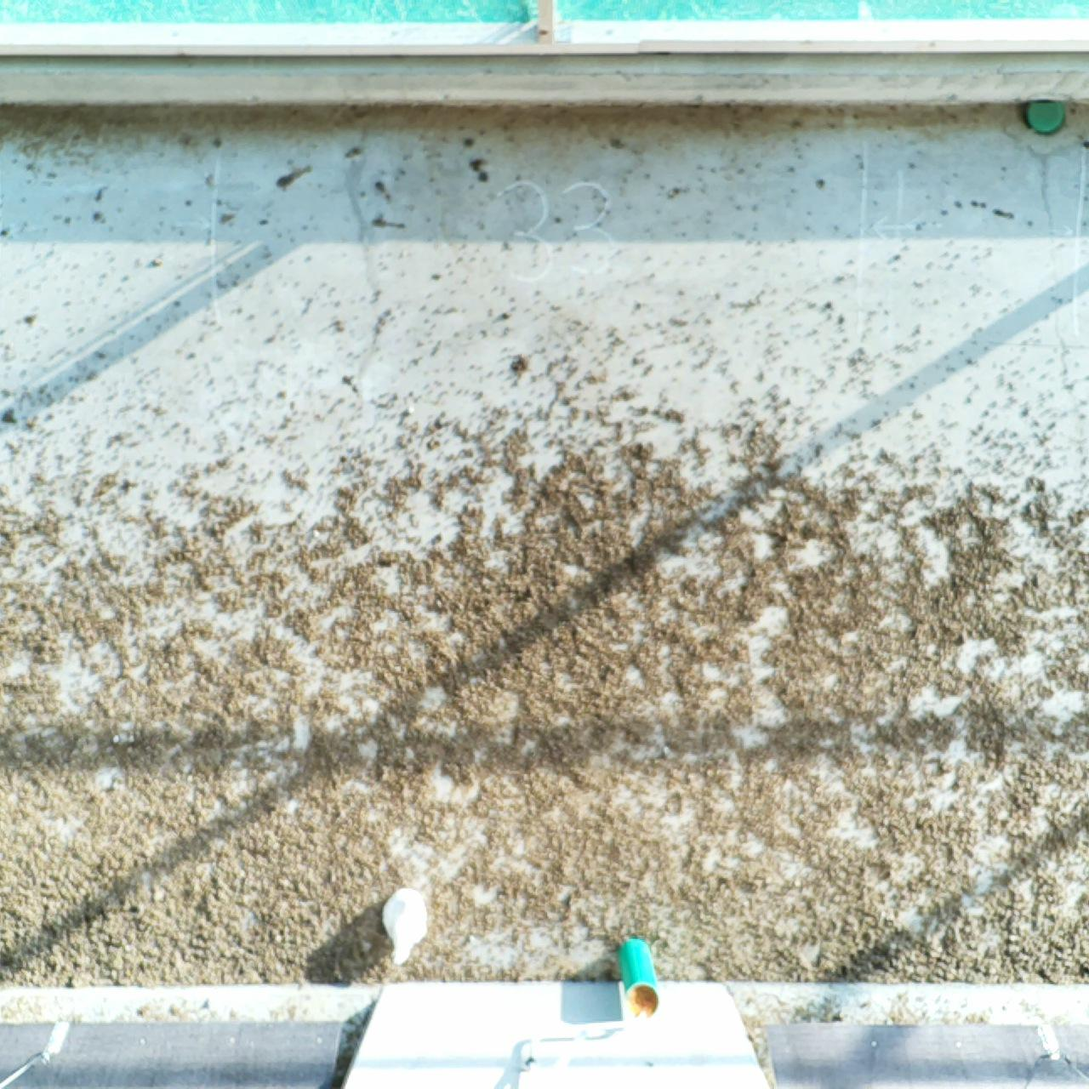chicken: (374, 881, 434, 969)
